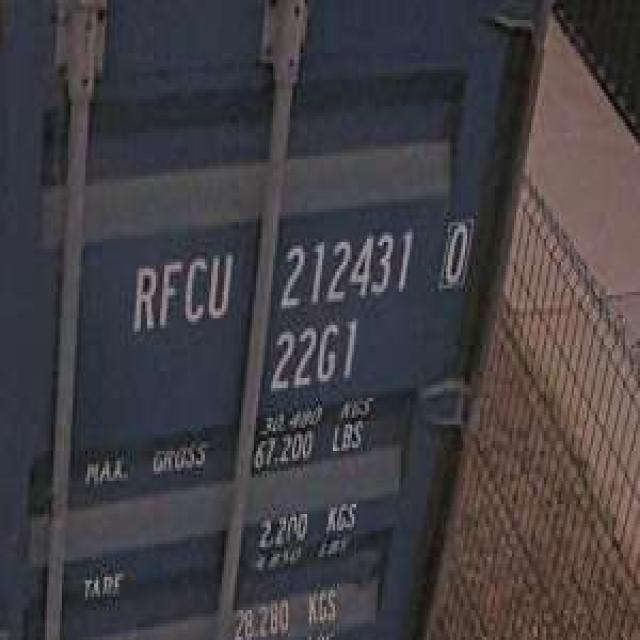dv: (437, 206, 474, 295)
owner: (126, 242, 235, 338)
serial: (275, 219, 416, 312)
size: (266, 315, 361, 398)
